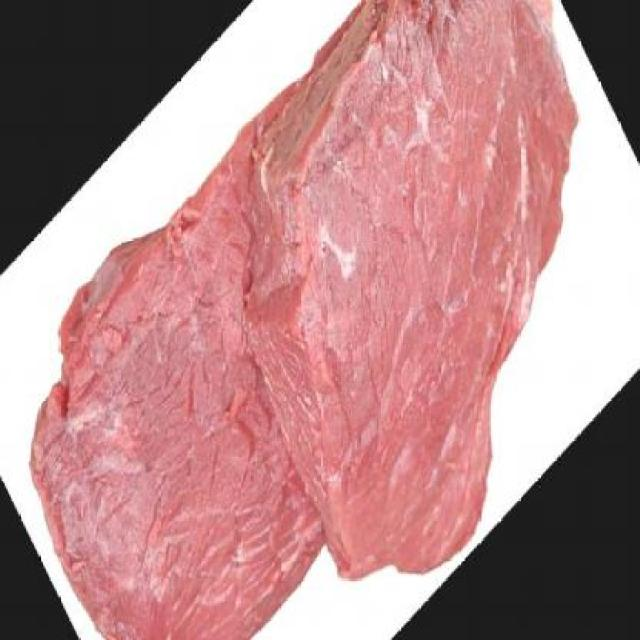beef: (34, 0, 589, 640)
